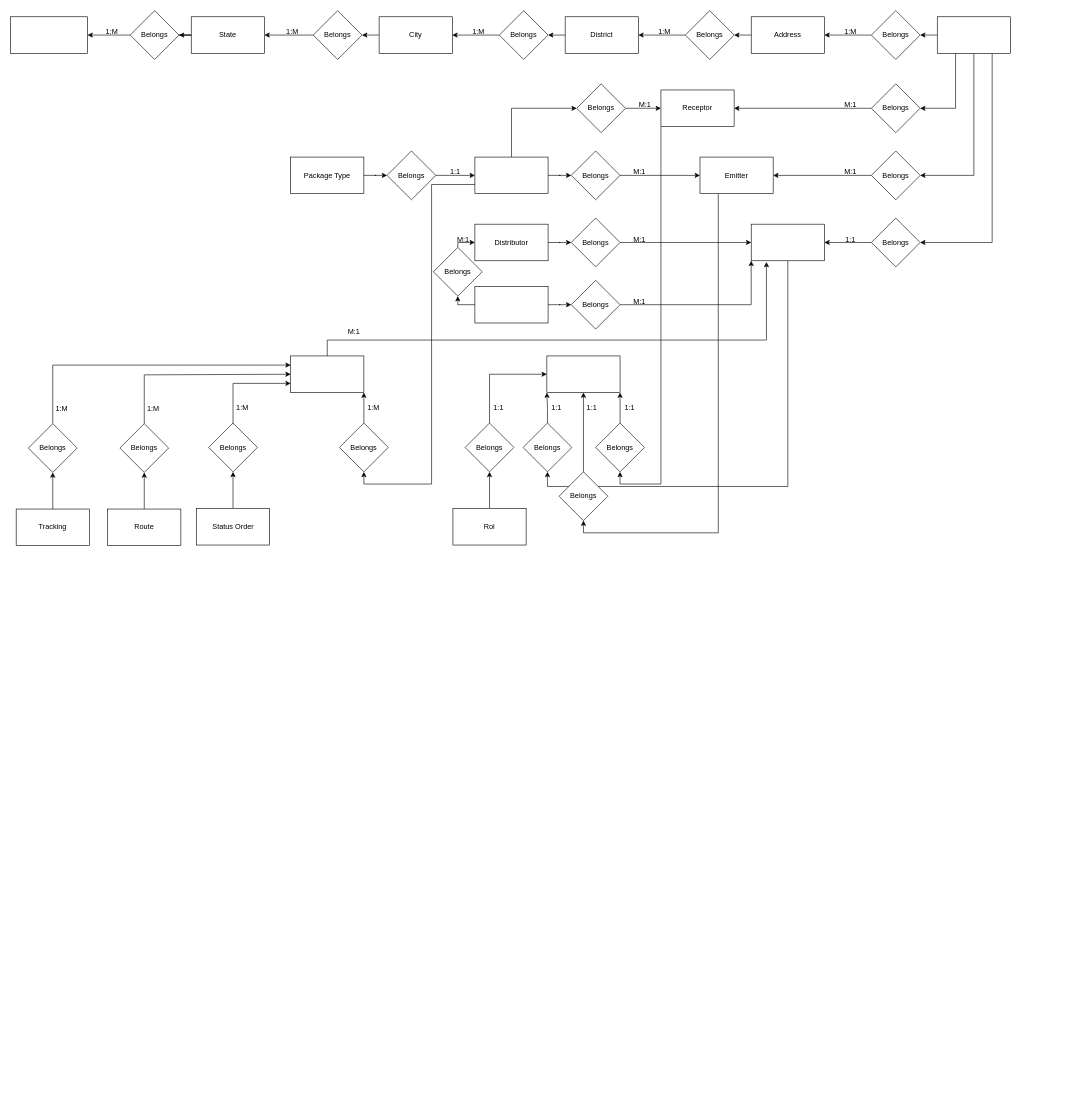
Some shapes in this 1068 by 1104 pixel diagram are drawn without their labels. Here are the shapes that lost their labels. From the top down, the centre of each, then its label:
At pixel 49 34: "Country".
At pixel 973 34: "Location".
At pixel 511 175: "Package".
At pixel 787 242: "Branch".
At pixel 511 304: "Distribution".
At pixel 327 374: "Order".
At pixel 583 374: "User".
